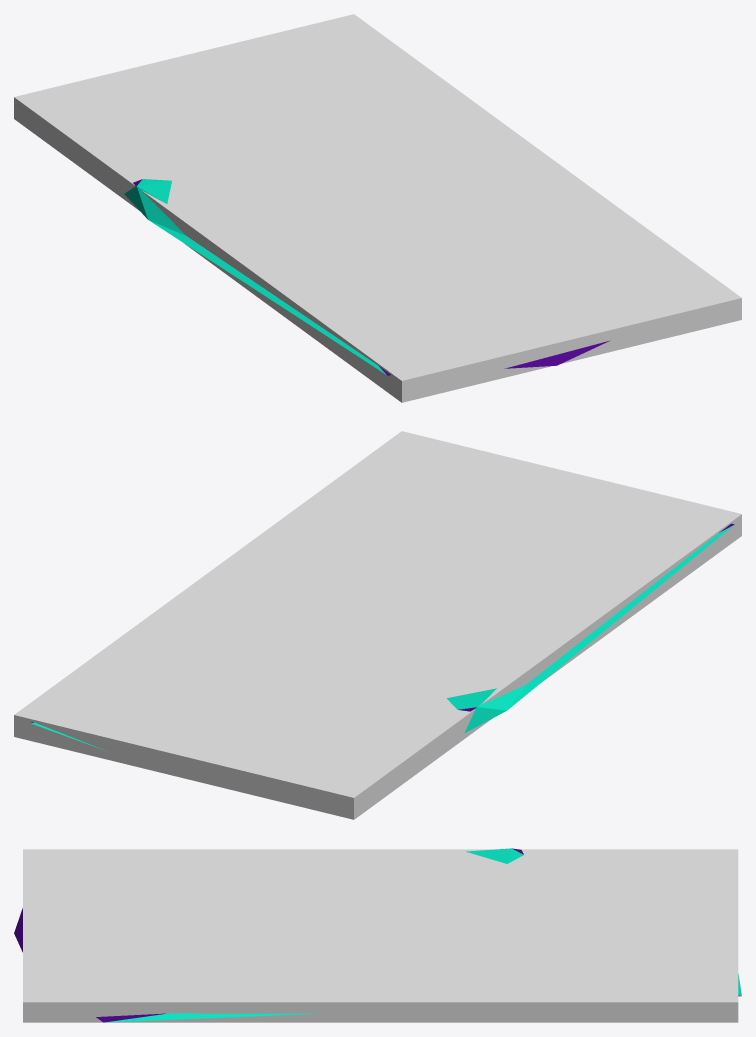
The model's file is Beach Towel 2.glb.
The picture shows the model from 3 angles, top to bottom: view 1: azimuth 30°, elevation 25°; view 2: azimuth 150°, elevation 25°; view 3: azimuth 270°, elevation 25°; orthographic projection. The views are drawn at different scales.
Visible parts, largest first — view 1: colonly_Towel, Towel; view 2: colonly_Towel, Towel; view 3: colonly_Towel, Towel.
Part boxes in pixels (bbox=[...]): colonly_Towel: bbox=[14, 14, 741, 402]; Towel: bbox=[124, 179, 610, 375]; colonly_Towel: bbox=[14, 431, 741, 819]; Towel: bbox=[30, 523, 734, 750]; colonly_Towel: bbox=[23, 849, 738, 1022]; Towel: bbox=[14, 848, 741, 1022].
Size of the model in its own units: 0.9689 by 0.0589 by 1.85.
